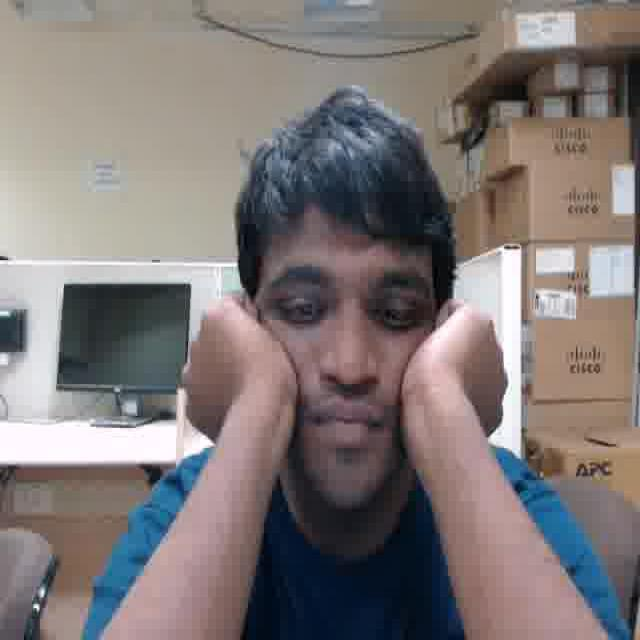Boredom: (246, 196, 433, 512)
